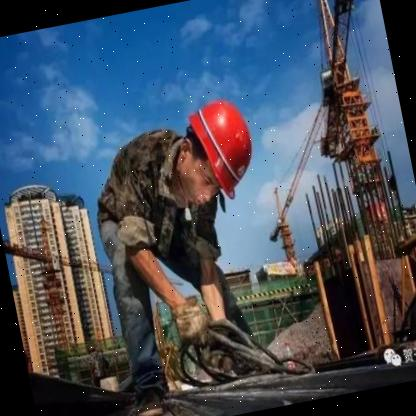capacete: (164, 88, 262, 210)
